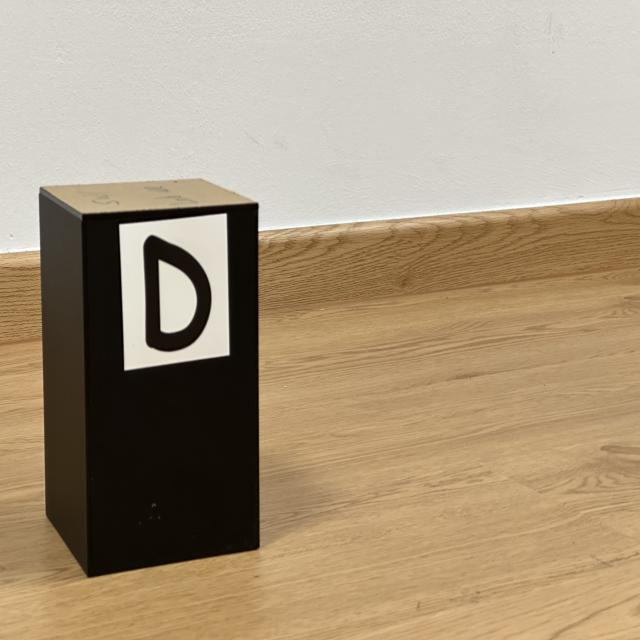D: (144, 235, 211, 352)
